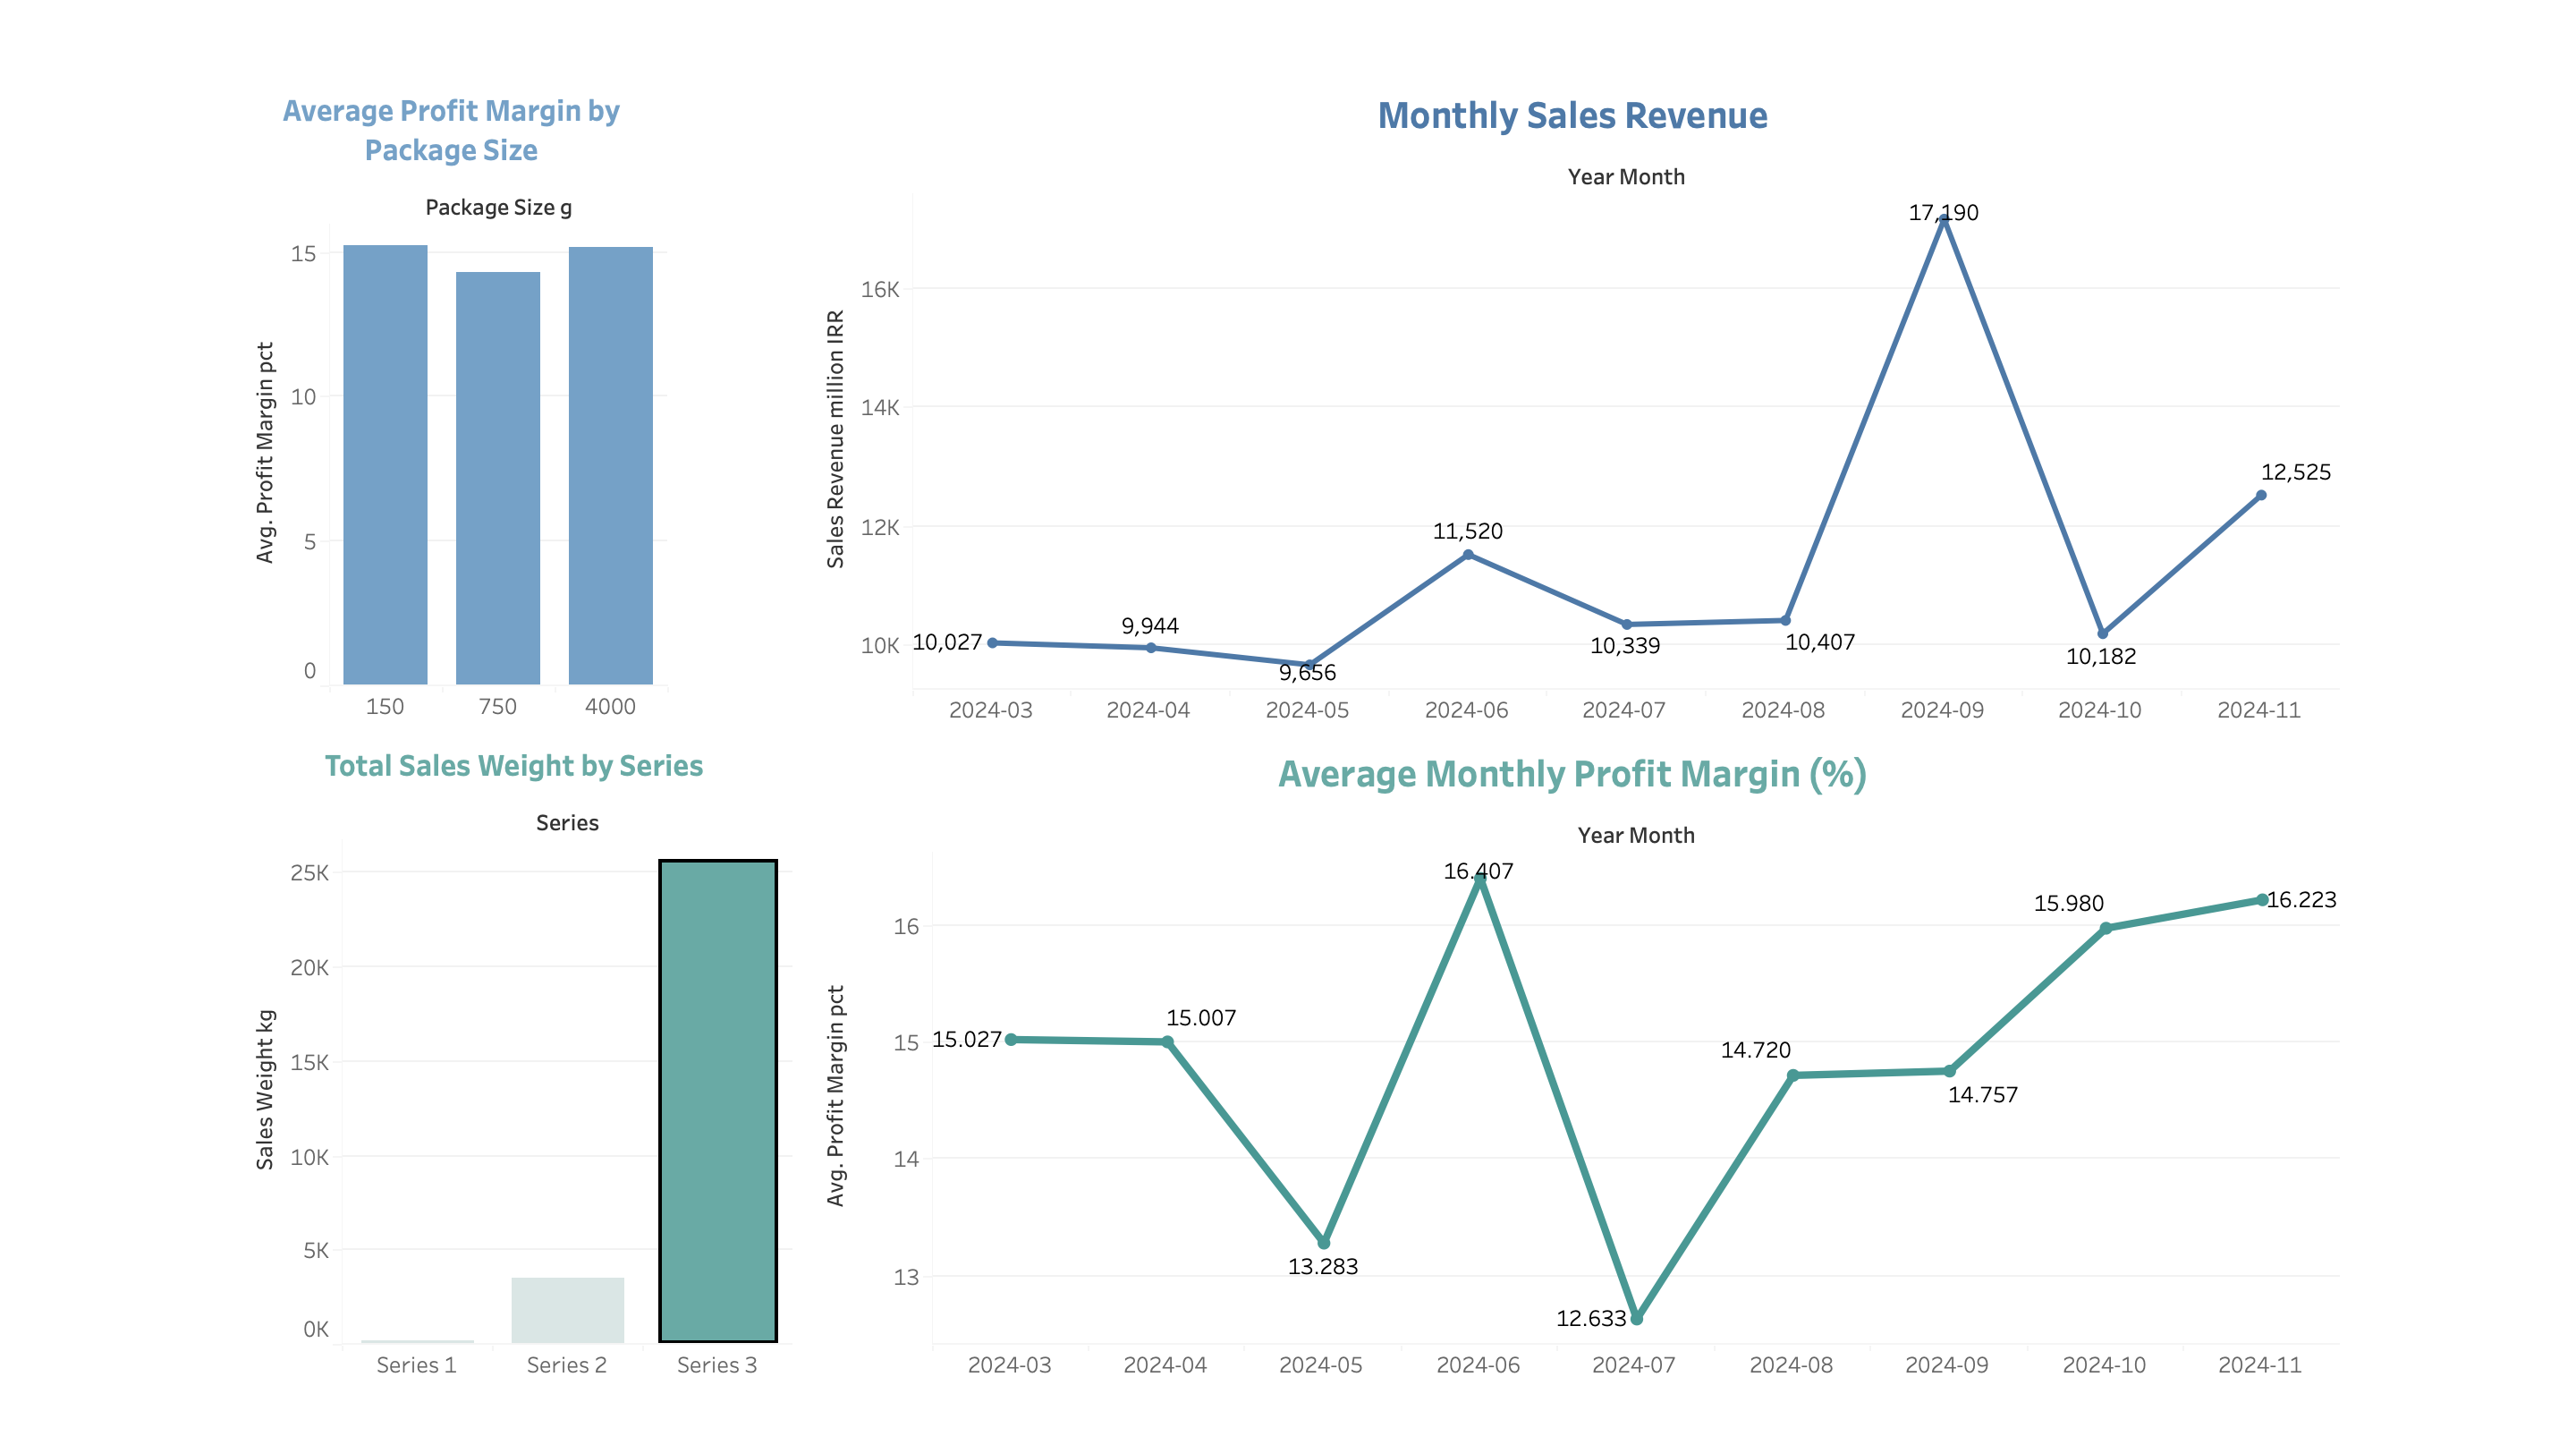

What the dashboard file says about the page in this screenshot:
{"tool":"tableau","page":{"name":"Dashboard 1","canvas":[1000,1000],"units":"permille","ordinal":0},"visuals":[{"type":"worksheet","title":"Sheet 3","mark":"Automatic","rows":["Profit_Margin_pct"],"cols":["Package_Size_g"],"box":[6.7,10.7,265.7,487.9]},{"type":"worksheet","title":"Sheet 1","mark":"Line","rows":["Sales_Revenue_million_IRR"],"cols":["YearMonth"],"box":[272.4,10.7,721,490]},{"type":"worksheet","title":"Sheet 4","mark":"Bar","rows":["Sales_Weight_kg"],"cols":["Series"],"box":[6.7,498.6,265.7,490.8]},{"type":"worksheet","title":"Sheet 2","mark":"Line","rows":["Profit_Margin_pct"],"cols":["YearMonth"],"box":[272.4,500.7,721,488.6]}]}

Visuals, with their boxes on the dashboard's canvas, which has no fixed pixel size, in thousandths of its width and height (x1, y1, x2, y2). These are canvas units, not pixel positions in the 2576x1445 screenshot, which may show the page scaled, cropped or inside an application window:
"Sheet 3" worksheet: {"left": 7, "top": 11, "right": 272, "bottom": 499}
"Sheet 1" worksheet (Line marks): {"left": 272, "top": 11, "right": 993, "bottom": 501}
"Sheet 4" worksheet (Bar marks): {"left": 7, "top": 499, "right": 272, "bottom": 989}
"Sheet 2" worksheet (Line marks): {"left": 272, "top": 501, "right": 993, "bottom": 989}
